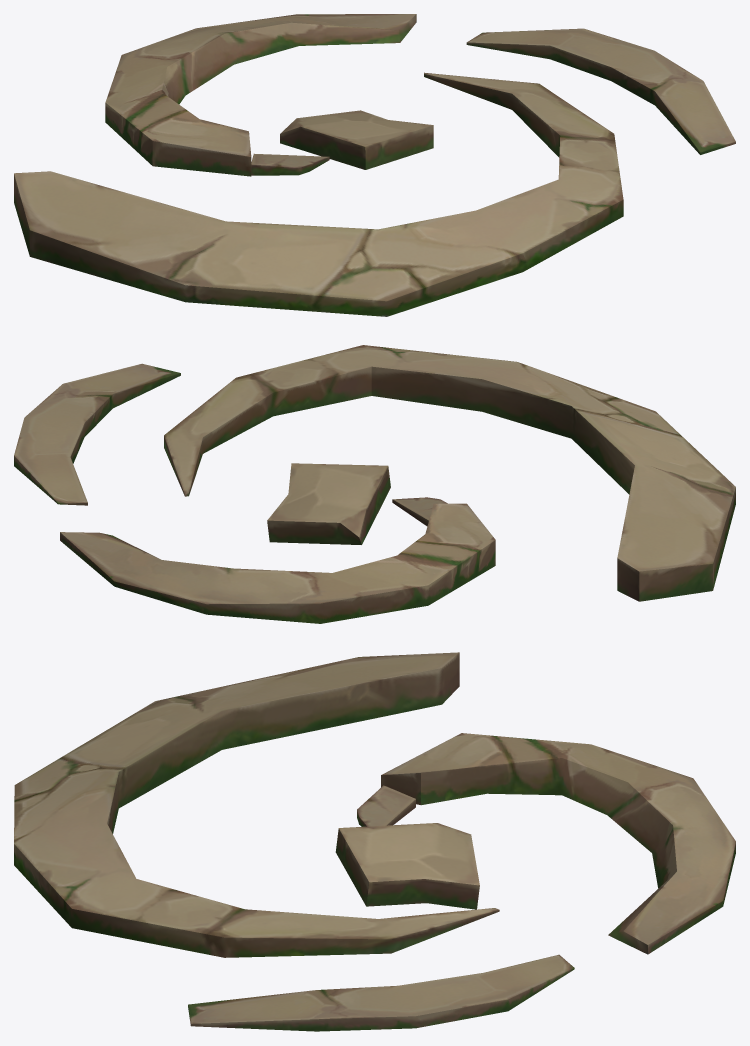
The model's file is scene_lawennushandao_csz02.FBX.
The picture shows the model from 3 angles, top to bottom: view 1: azimuth 30°, elevation 25°; view 2: azimuth 150°, elevation 25°; view 3: azimuth 270°, elevation 25°; orthographic projection. The views are drawn at different scales.
Parts seen in each view (by area): view 1: scene_lawennushandao_csz02; view 2: scene_lawennushandao_csz02; view 3: scene_lawennushandao_csz02.
Boxes of the visible parts, x1,y1,x2,y2 form: scene_lawennushandao_csz02: [14, 14, 735, 316]; scene_lawennushandao_csz02: [14, 345, 735, 623]; scene_lawennushandao_csz02: [14, 652, 735, 1031].
Size of the model in its own units: 619 by 48.55 by 517.
